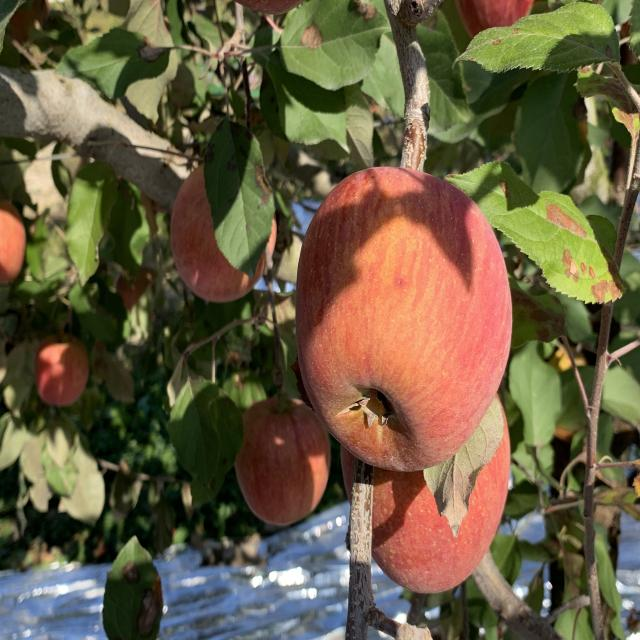fresh: (288, 159, 522, 481)
